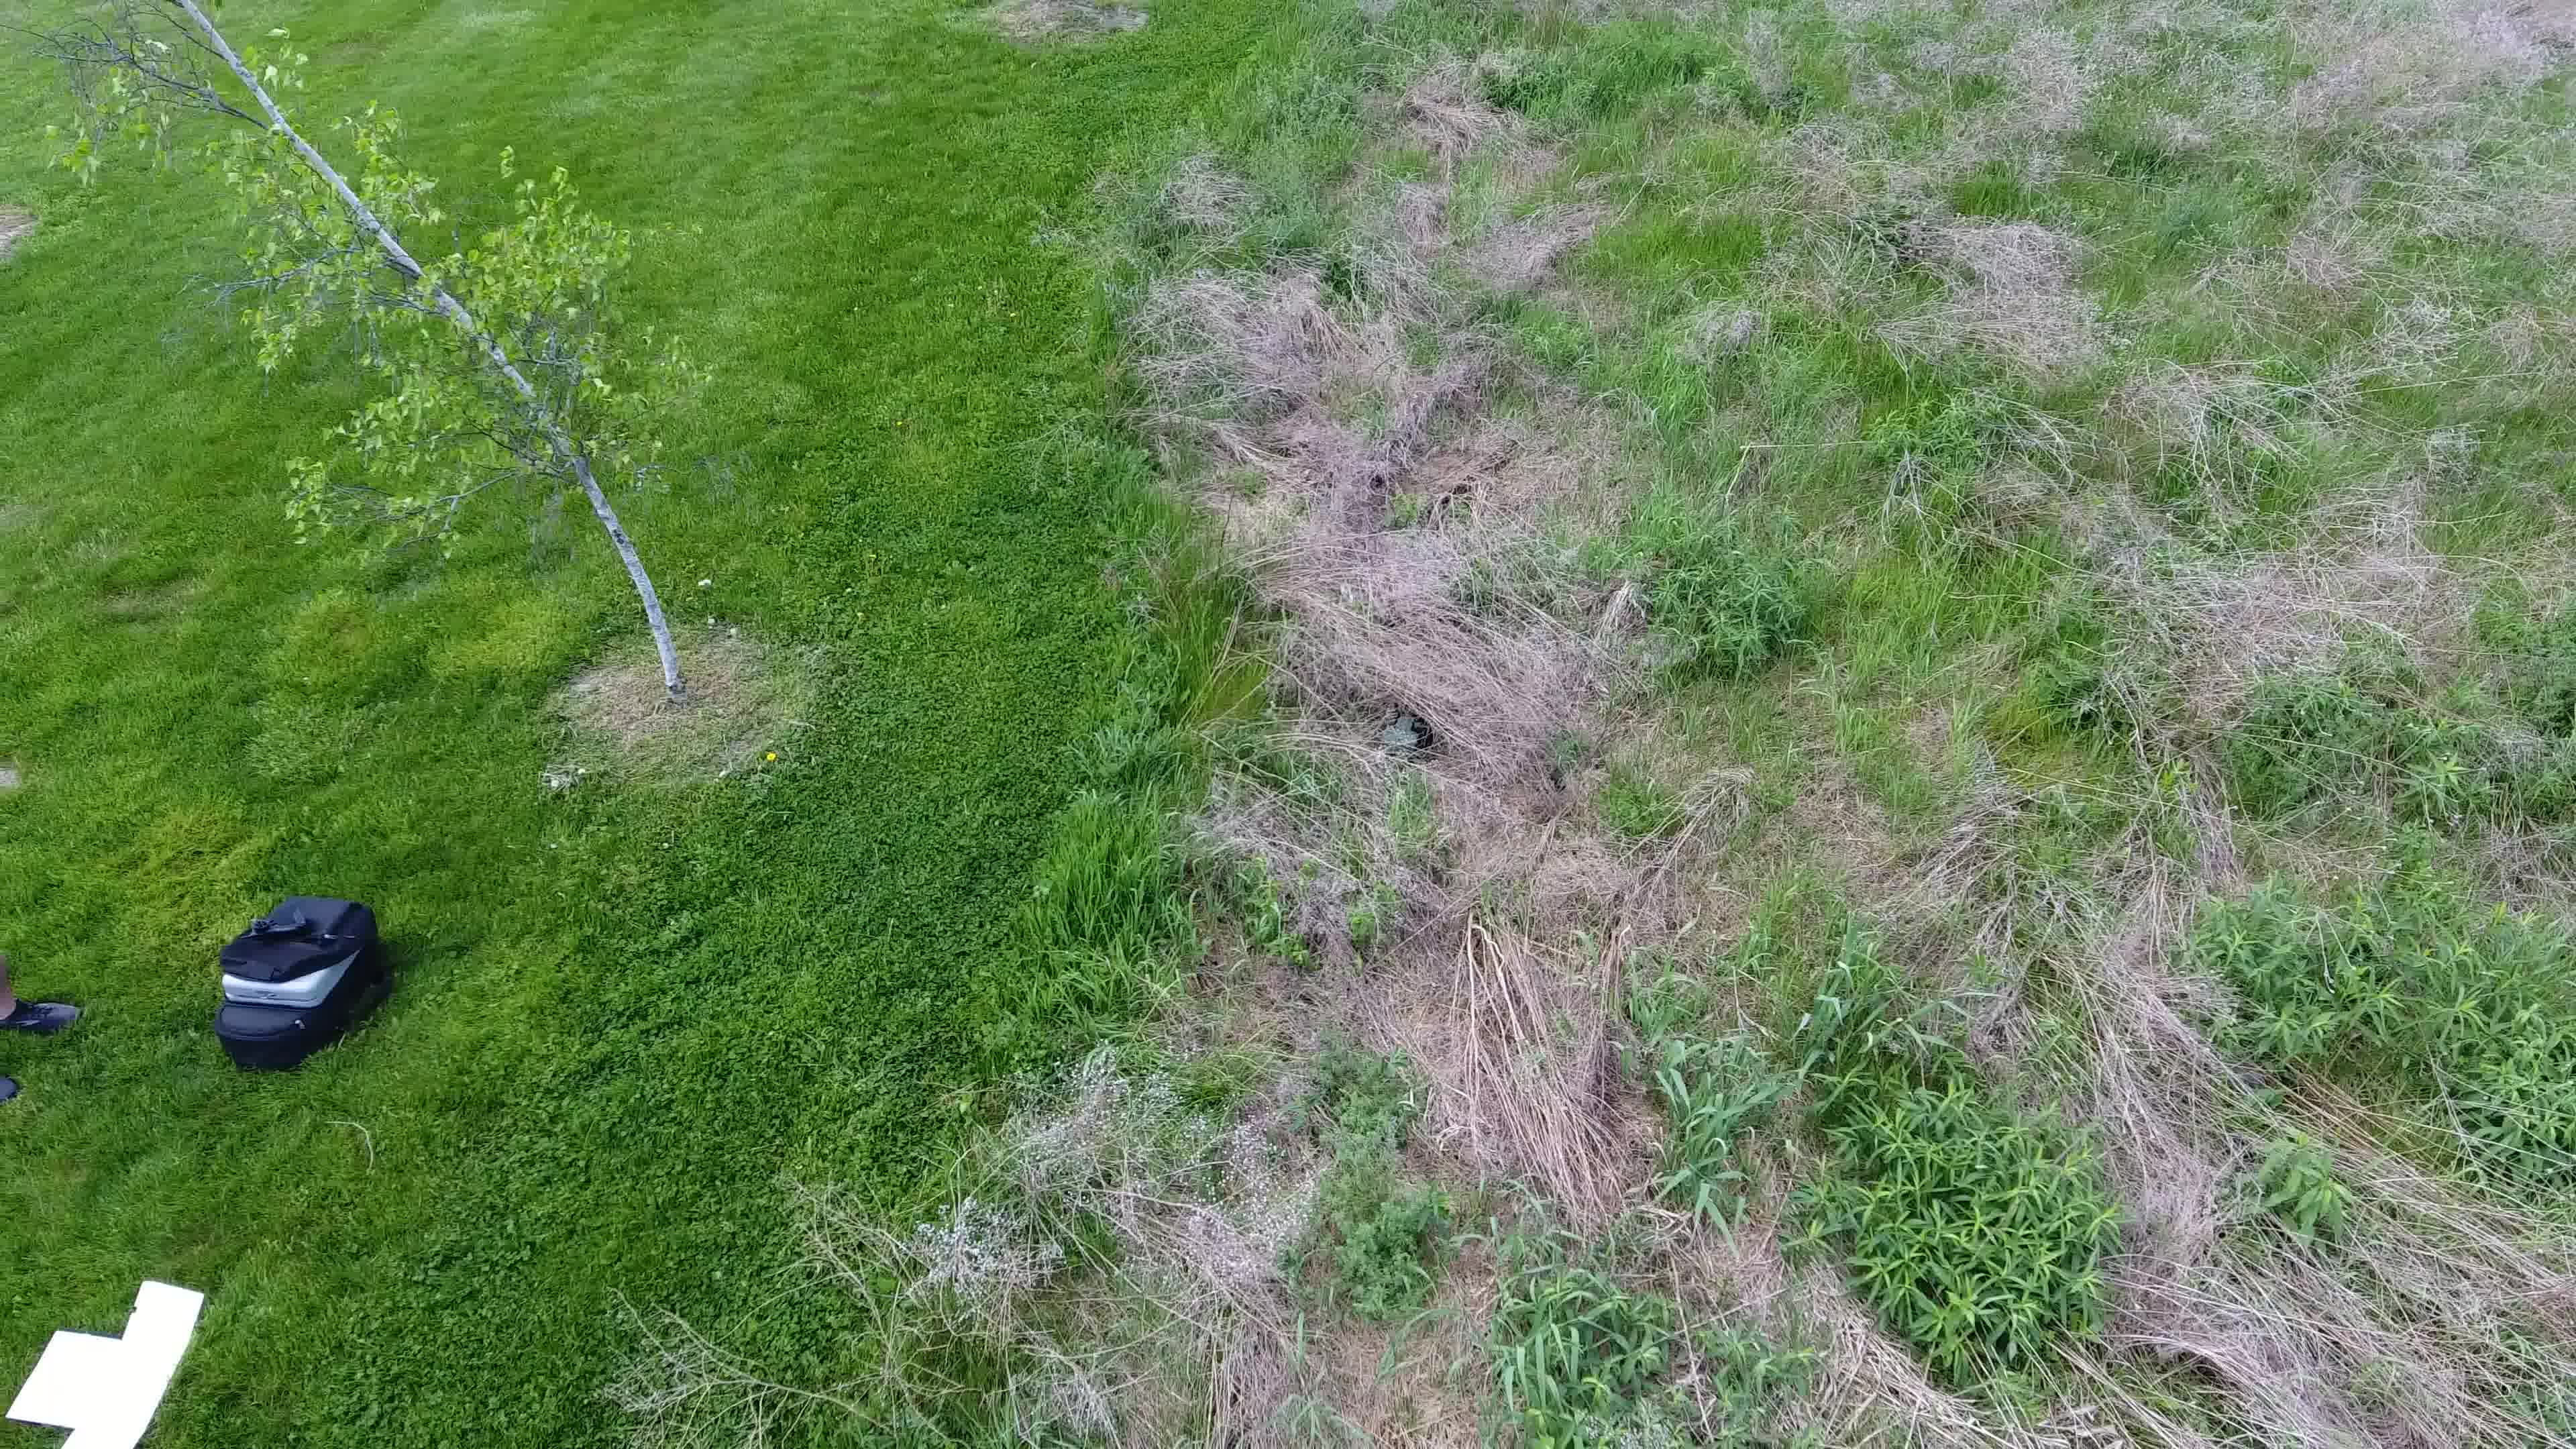transporter9: (1375, 708, 1433, 752)
